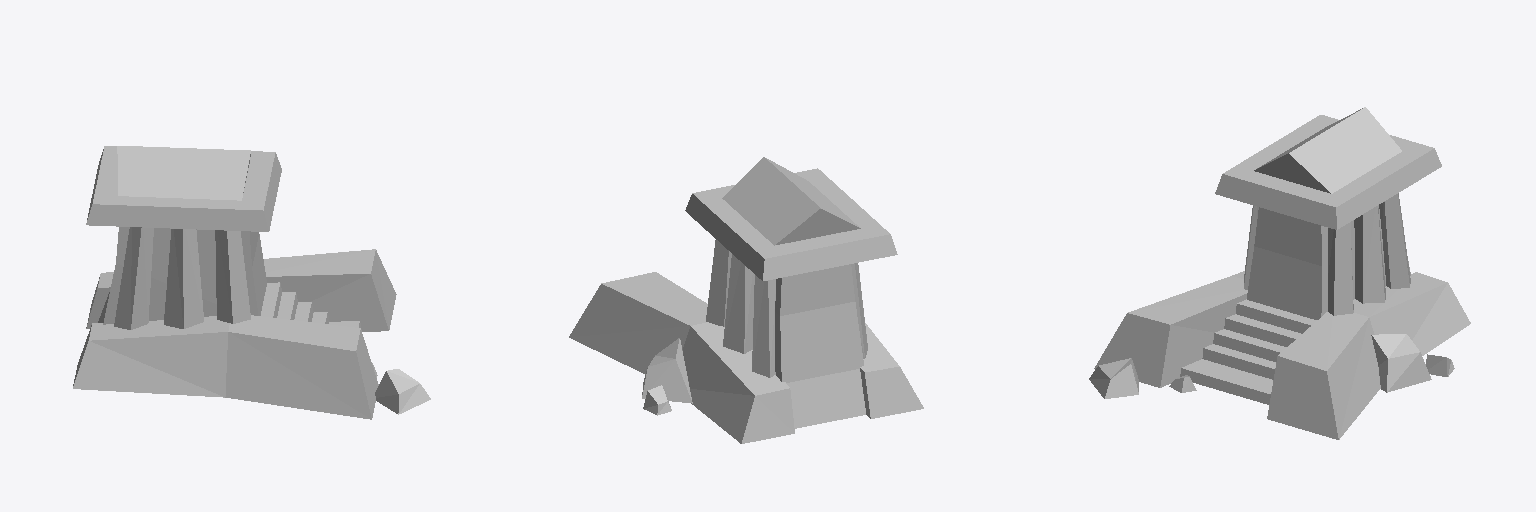
The model's file is crypt.obj.
The picture shows the model from 3 angles: view 1: azimuth 30°, elevation 25°; view 2: azimuth 150°, elevation 25°; view 3: azimuth 270°, elevation 25°; orthographic projection.
Parts seen in each view (by area): view 1: NorthrendCrypt; view 2: NorthrendCrypt; view 3: NorthrendCrypt.
Boxes of the visible parts, x1,y1,x2,y2 form: NorthrendCrypt: [73, 146, 430, 419]; NorthrendCrypt: [569, 157, 923, 443]; NorthrendCrypt: [1089, 107, 1470, 439].
Size of the model in its own units: 14.07 by 8.1 by 13.71.